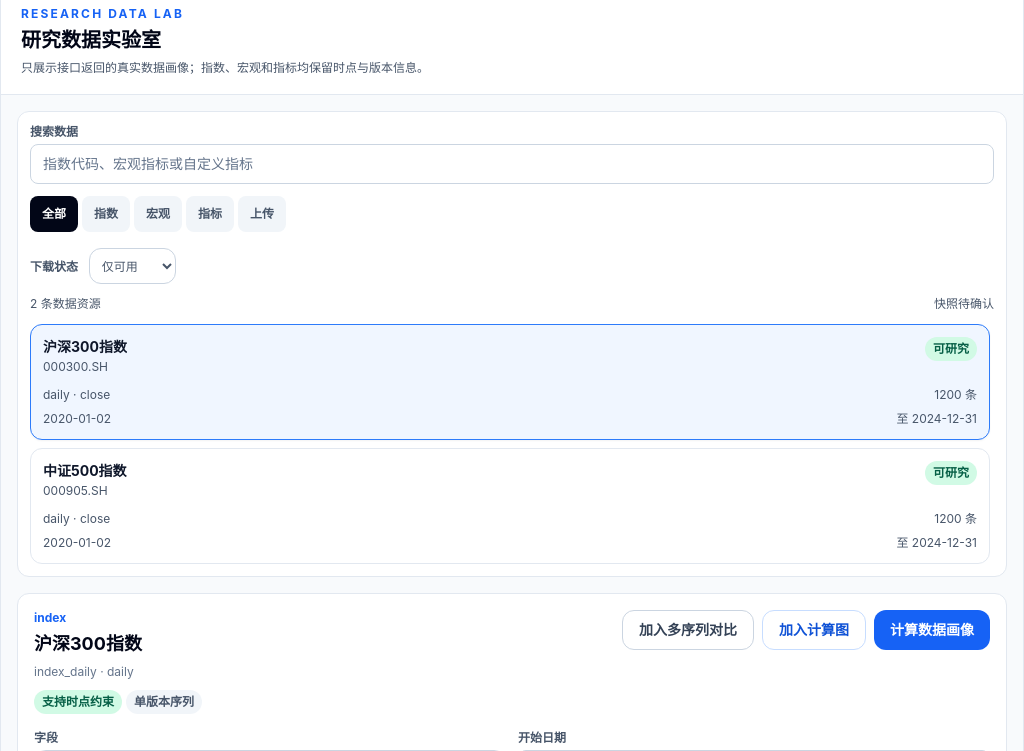
Test: ResearchDataLab › 选择 2–4 条真实序列，并展示后端 NJIT 返回的共同区间、相关矩阵和散点
This screenshot has width=1024, height=751.
Click the button "加入多序列对比": (688, 630) [622, 610, 754, 650]
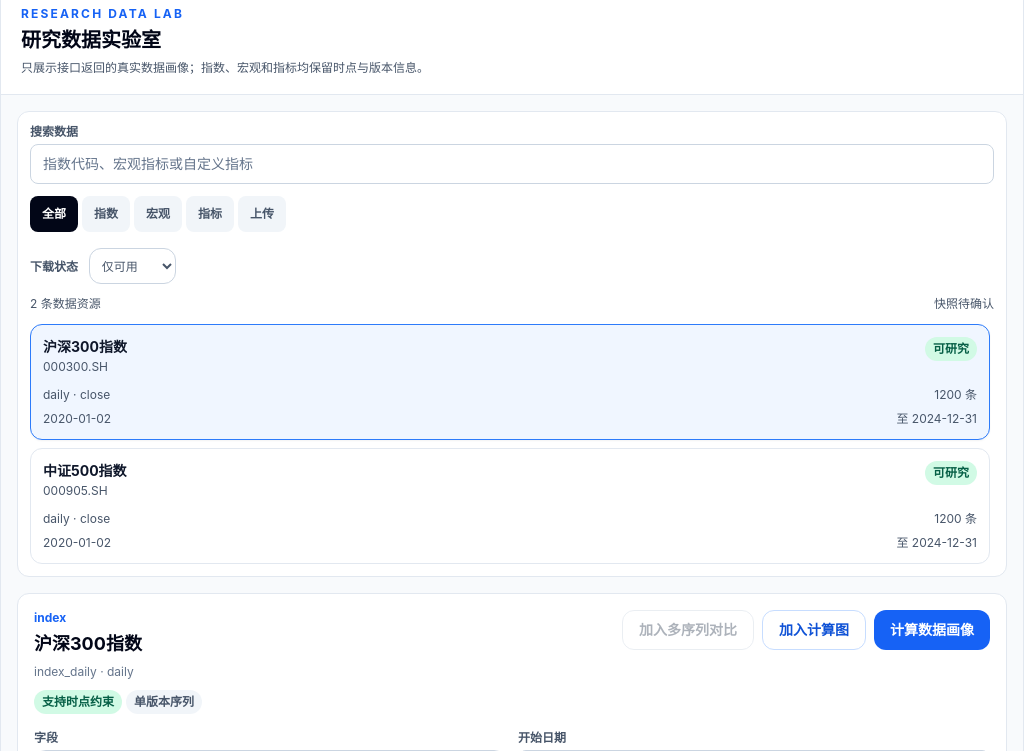
Click the button "中证500指数": (85, 470) [30, 448, 990, 564]
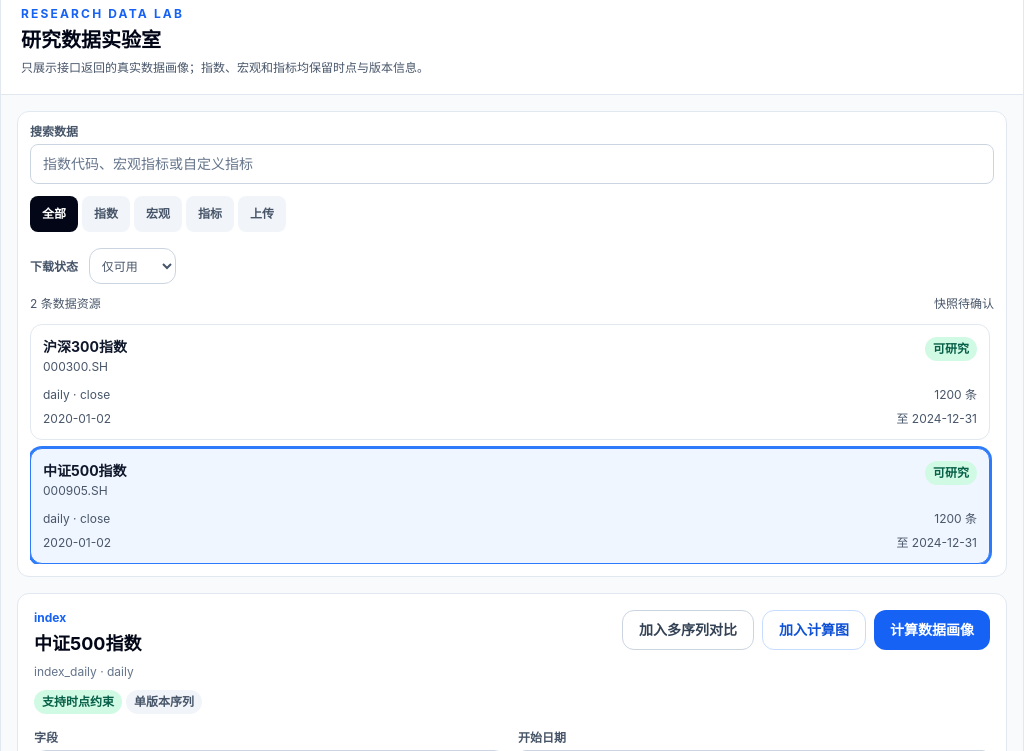
Click the button "加入多序列对比": (688, 630) [622, 610, 754, 650]
(page scrolled)
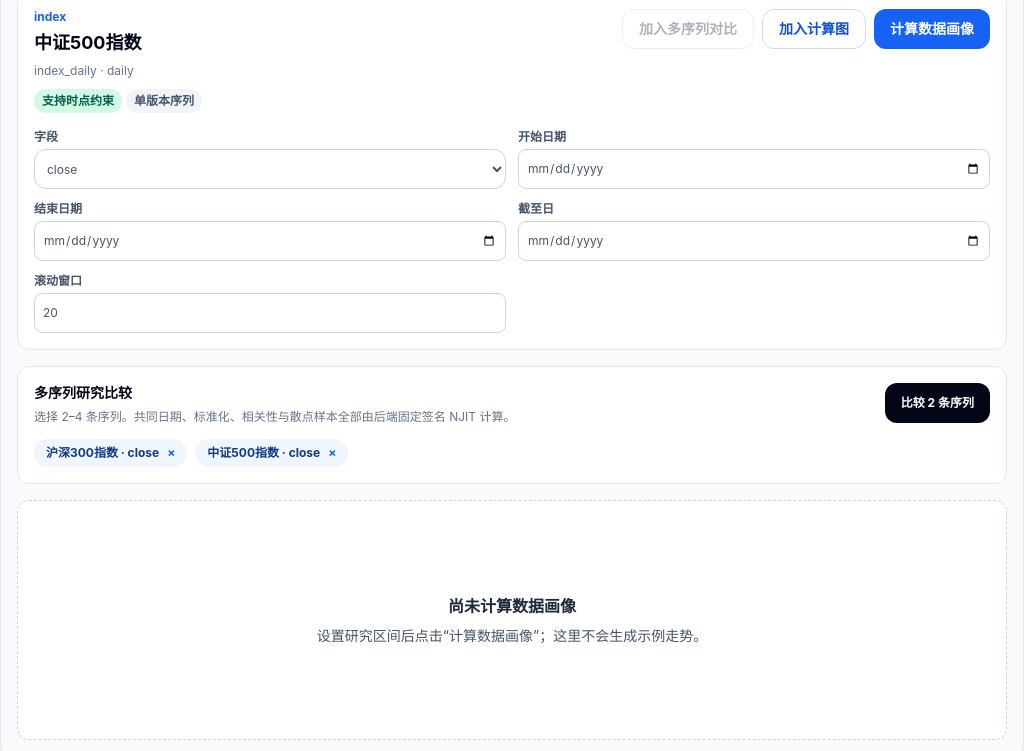
Click the button "比较 2 条序列": (937, 403) [885, 383, 990, 423]
(page scrolled)
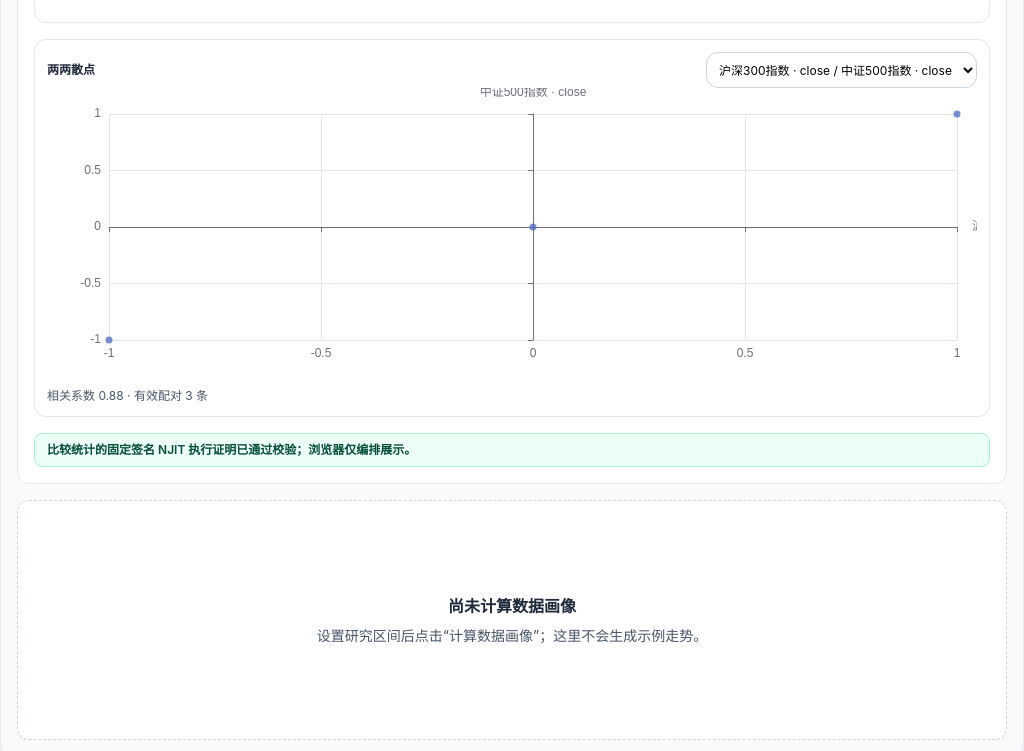
Now the dropdown named "散点序列组合" is shown, box [706, 52, 977, 88]
Now the text "比较统计的固定签名 NJIT 执行证明已通过校验；浏览器仅编排展示。" is shown, box [34, 433, 990, 467]
